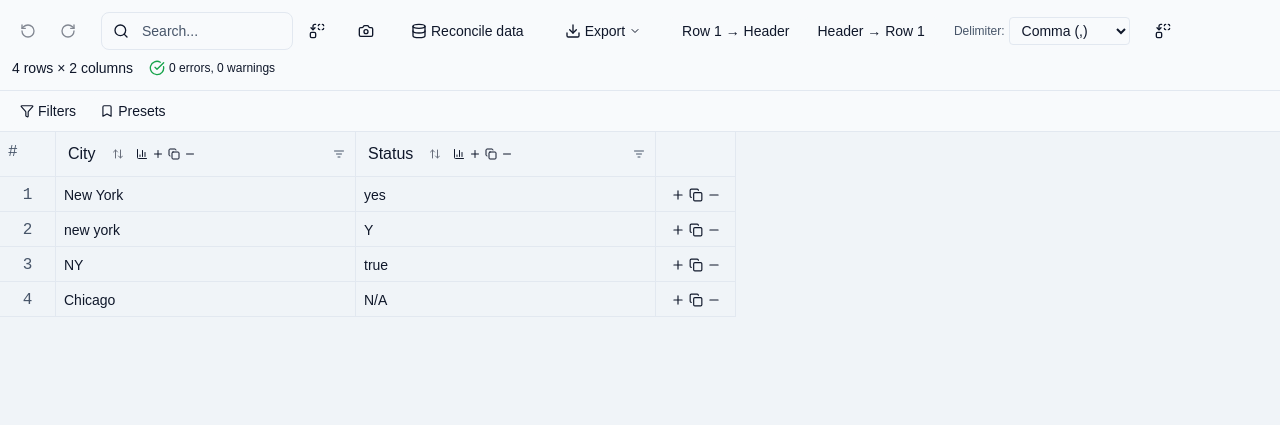
Scenario: CSV Find & Replace › supports entire-cell matching to normalize variants (NY vs New York)
The width and height of the screenshot is (1280, 425).
Click the button with test id "toggle-replace" at (317, 31), box [301, 15, 333, 47]
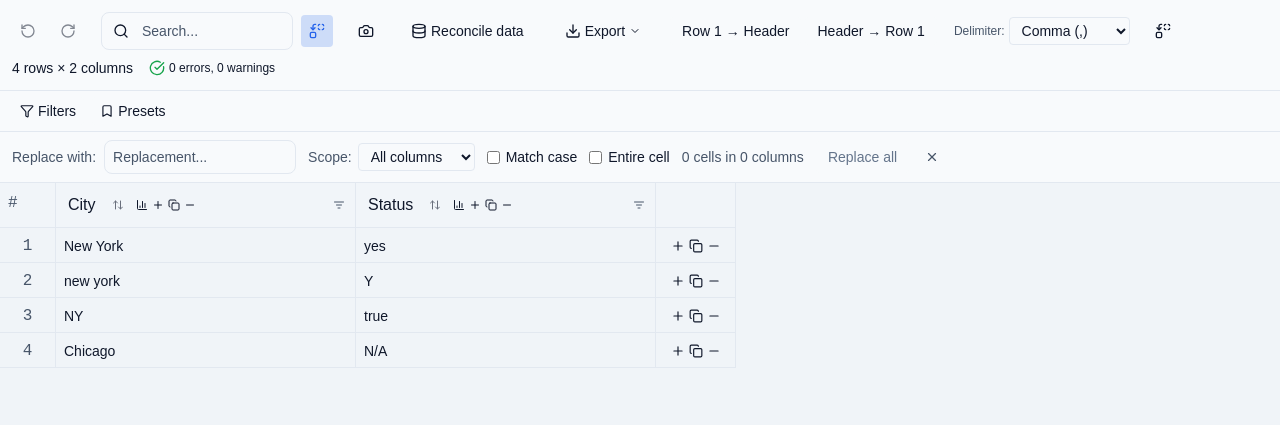
Type "NY" into the field with test id "search-input" at (197, 31), box [101, 12, 293, 50]
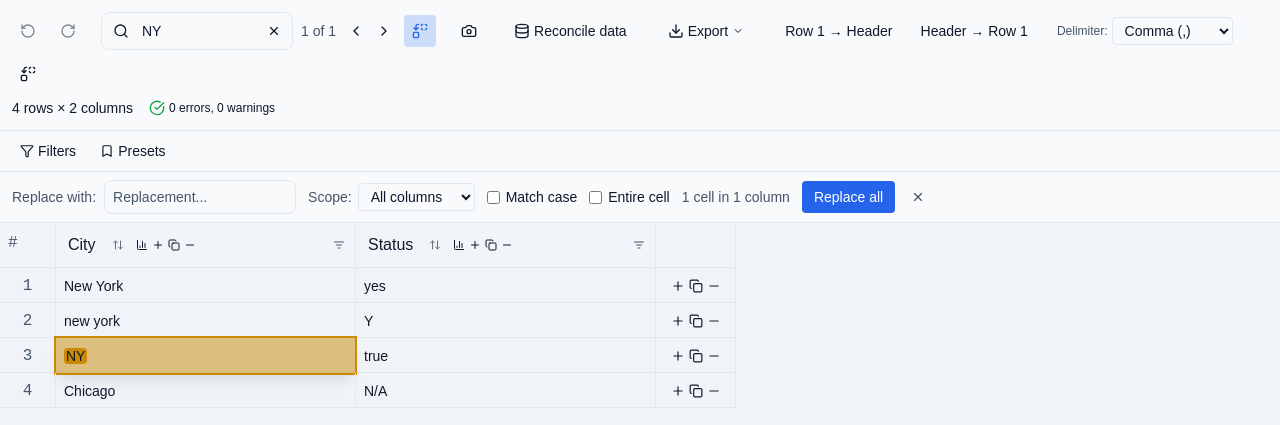
Now the text with test id "replace-preview" reads "1 cell in 1 column", box [682, 189, 790, 205]
Click the checkbox with test id "exact-cell-toggle" at (596, 197), box [589, 190, 602, 204]
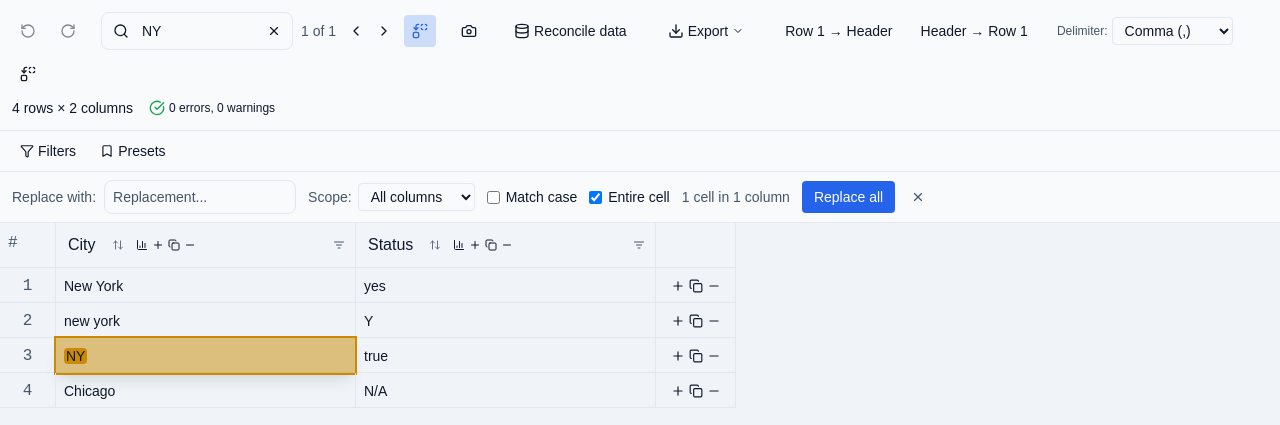
Now the text with test id "replace-preview" reads "1 cell in 1 column", box [682, 189, 790, 205]
Replace the text in the field with test id "search-input" with "N" at (197, 31), box [101, 12, 293, 50]
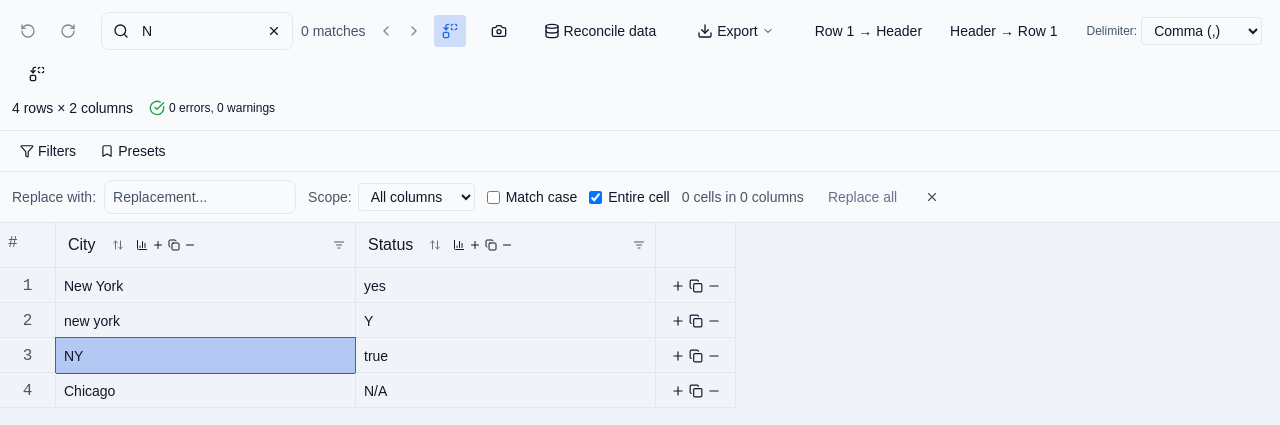
Now the text with test id "replace-preview" reads "0 cells in 0 columns", box [682, 189, 804, 205]
Now the button with test id "replace-all-button" is disabled, box [816, 181, 909, 213]
